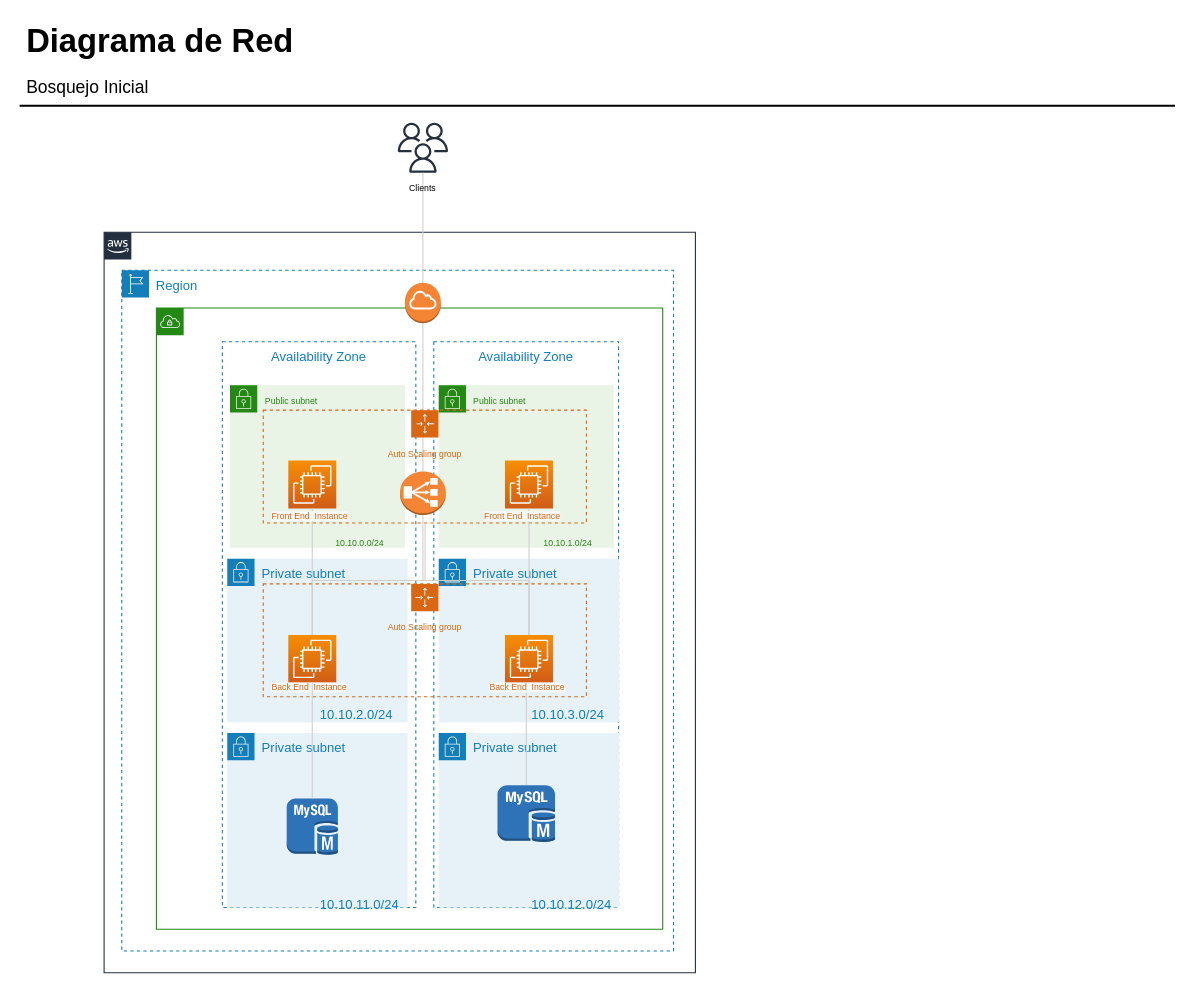
This 1195x992 diagram has some shape labels left out. Each missing label, with the box of its shape:
AWS Cloud: (103, 231, 695, 973)
VPC CIDR 10.10.0.0/16: (155, 307, 663, 929)
